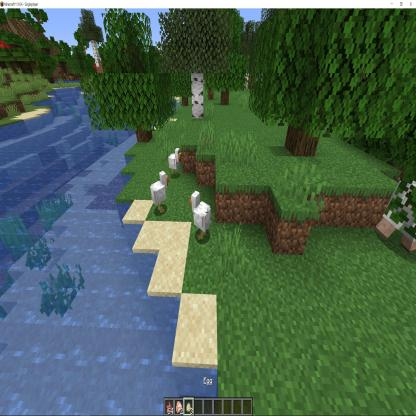minecraft-pigs: (188, 190, 212, 243), (150, 169, 170, 217), (168, 147, 182, 177)
